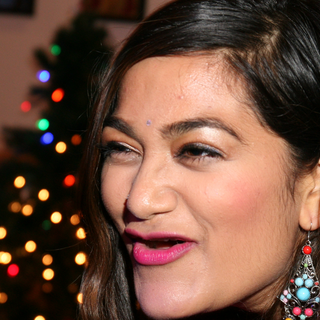eye: (172, 139, 226, 165), (101, 138, 142, 163)
